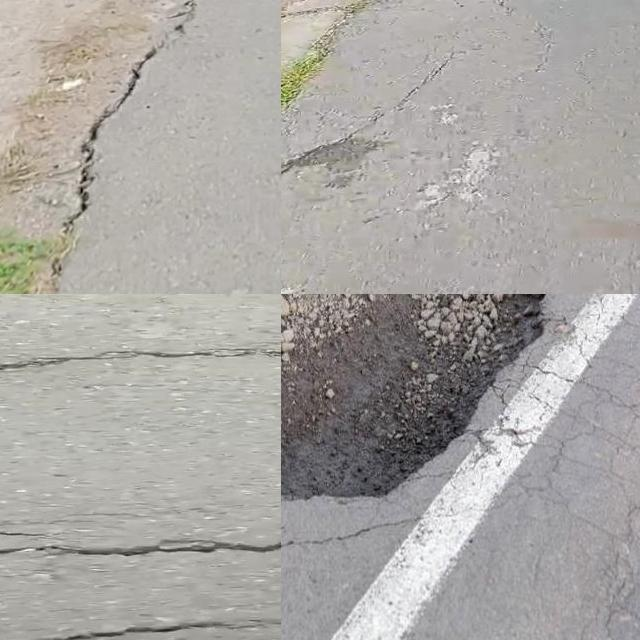Melintang: (0, 332, 281, 387), (0, 526, 281, 571), (0, 609, 281, 640)
Memanjang: (22, 0, 211, 291)
Pinggir: (281, 294, 549, 506)
